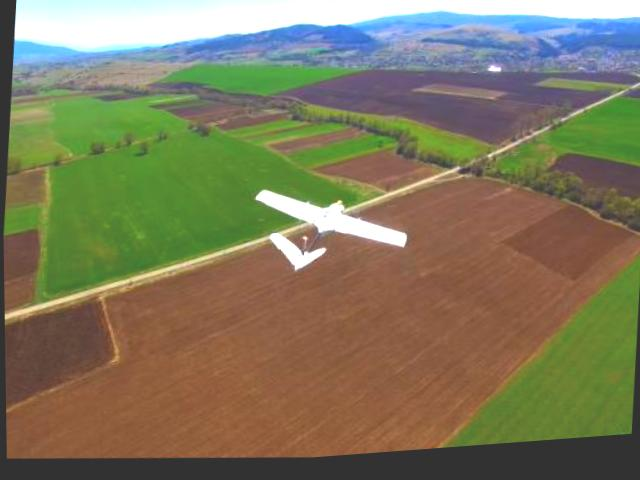uav: (243, 171, 412, 295)
